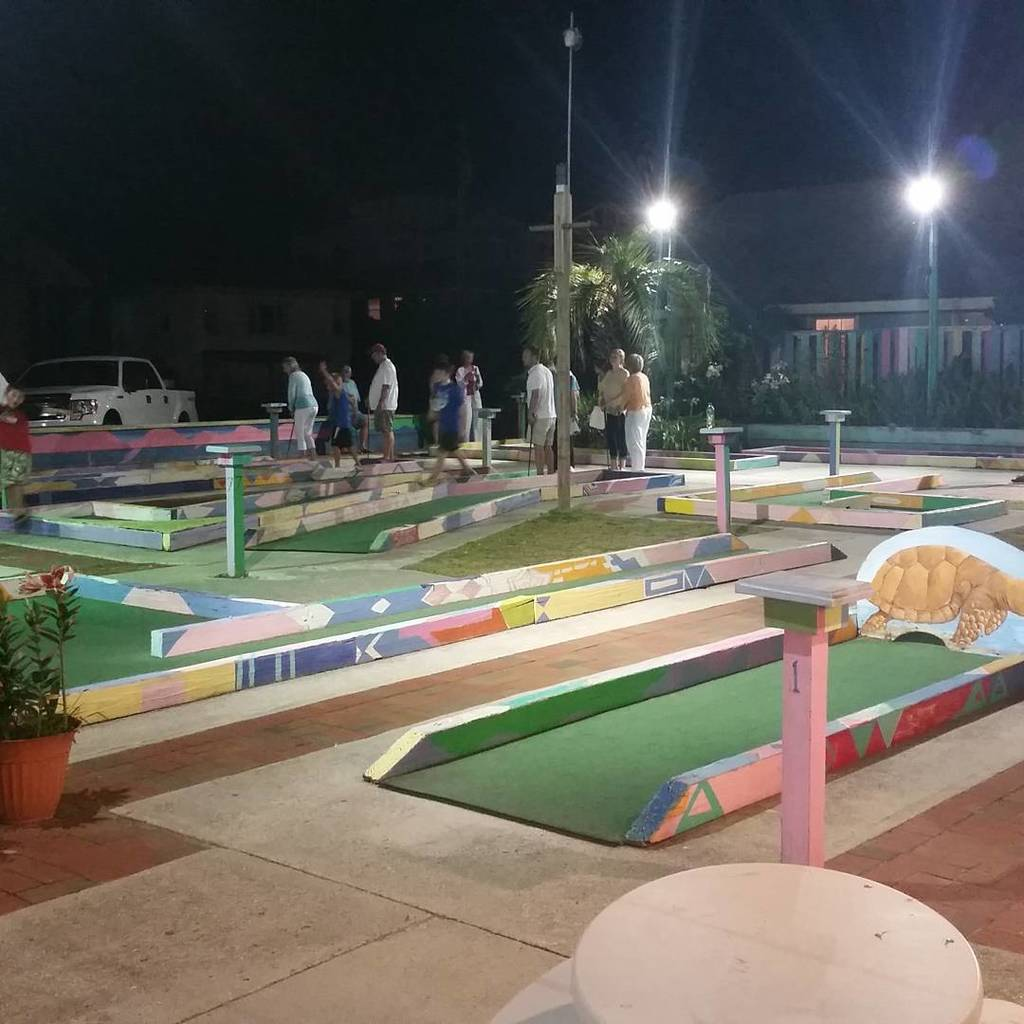Person: (595, 348, 655, 465), (427, 355, 472, 476), (525, 341, 561, 470), (319, 364, 358, 467), (0, 376, 46, 458), (366, 340, 397, 461), (597, 346, 628, 466), (283, 354, 318, 457), (556, 356, 582, 475), (322, 362, 360, 428), (0, 366, 10, 404)
